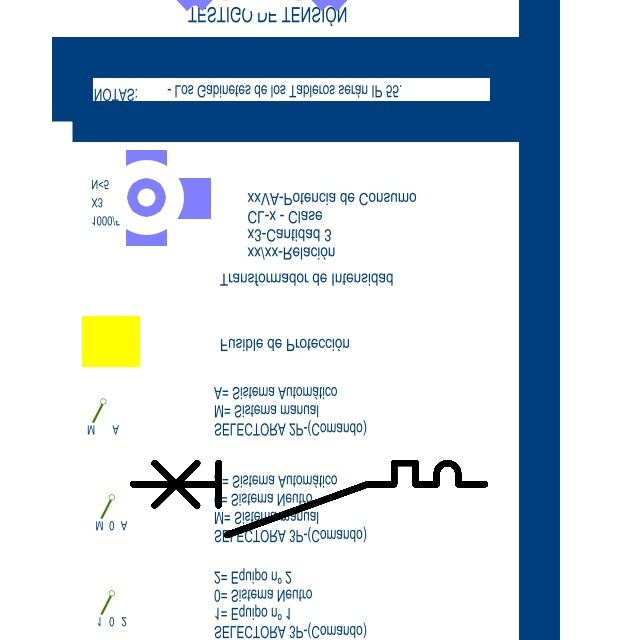interruptor_termomagnetico: (124, 454, 494, 544)
